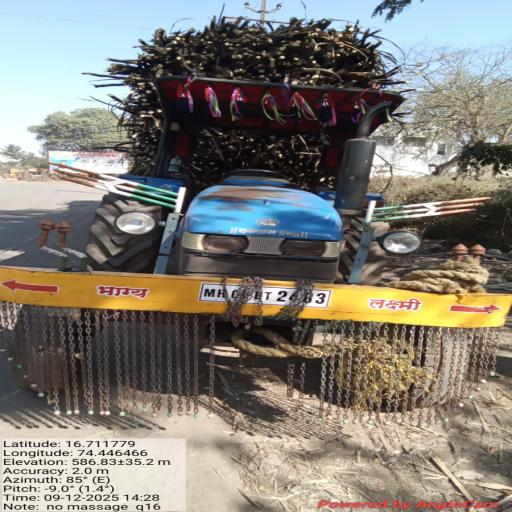number_plate: (188, 278, 352, 304)
